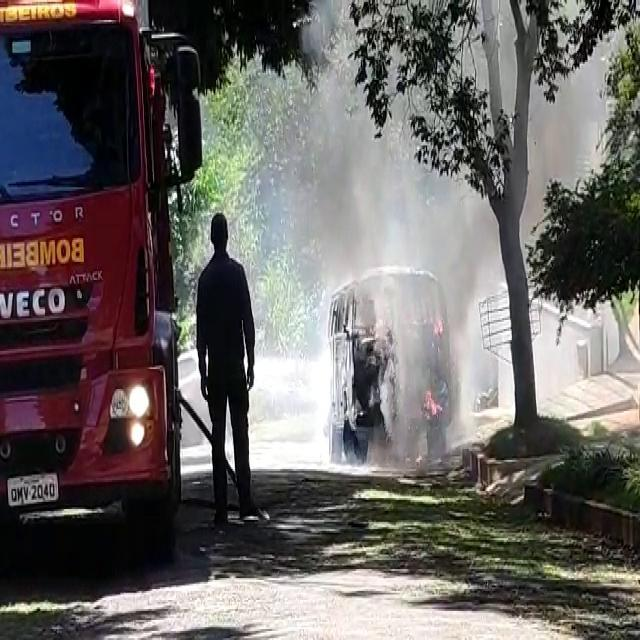Fire: (423, 313, 444, 416)
Smoke: (310, 186, 470, 308), (321, 320, 419, 465), (302, 0, 370, 180)
